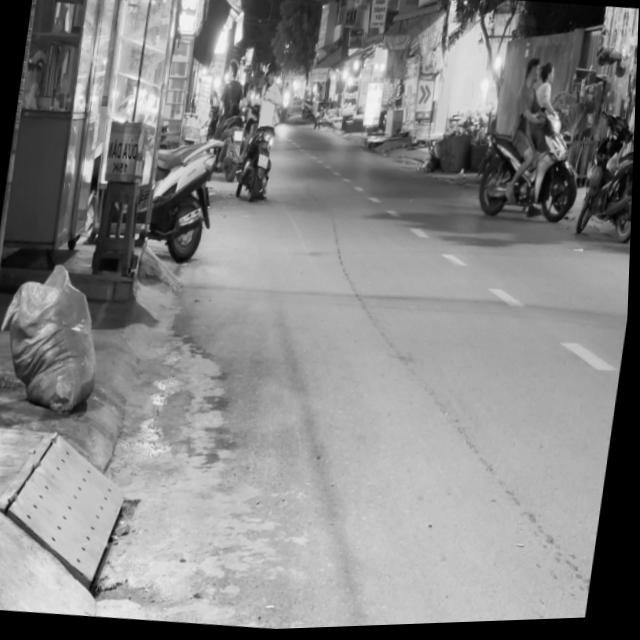licenseplate: (471, 52, 595, 233)
motorcyclist: (524, 59, 542, 92), (539, 64, 557, 91)
